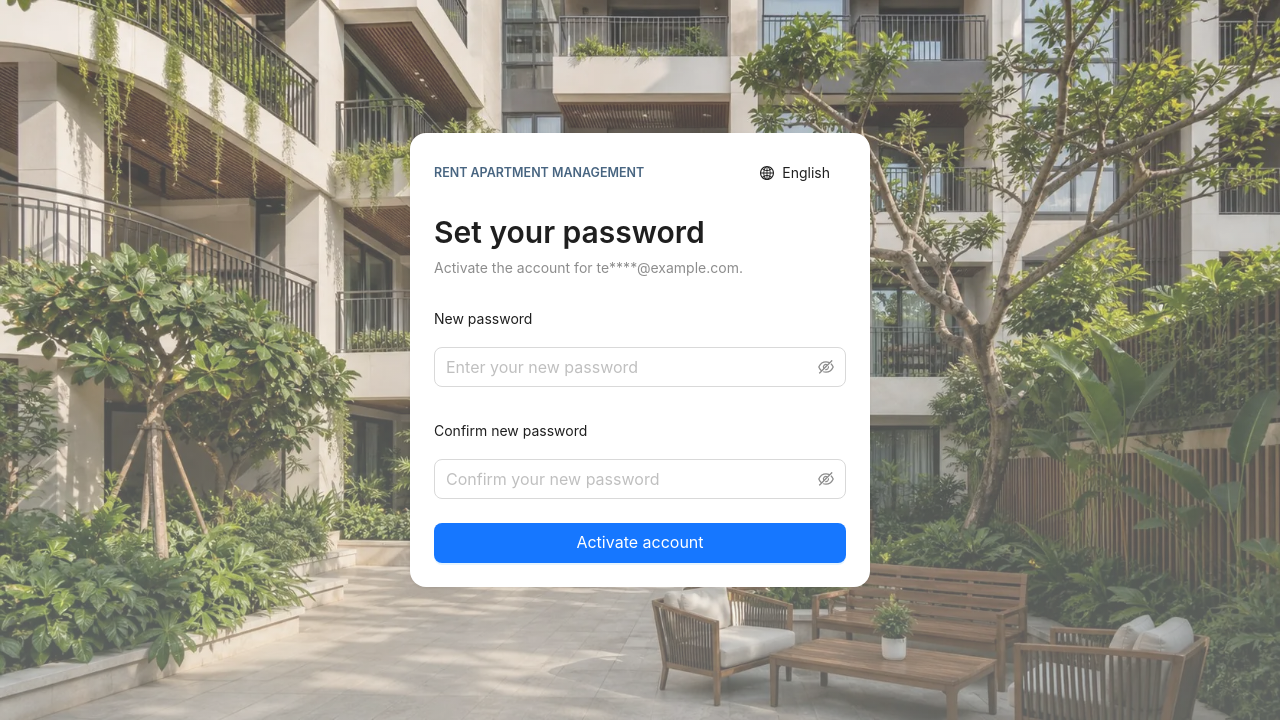
Test: ActivateAccountPage › validates the link and activates the account after matching passwords are entered
The width and height of the screenshot is (1280, 720).
Check: the heading "Set your password" is shown, box x1=434 y1=214 x2=705 y2=250
In the password field labelled "New password": (630, 367) x1=446 y1=355 x2=814 y2=379, type "secure-password-123"
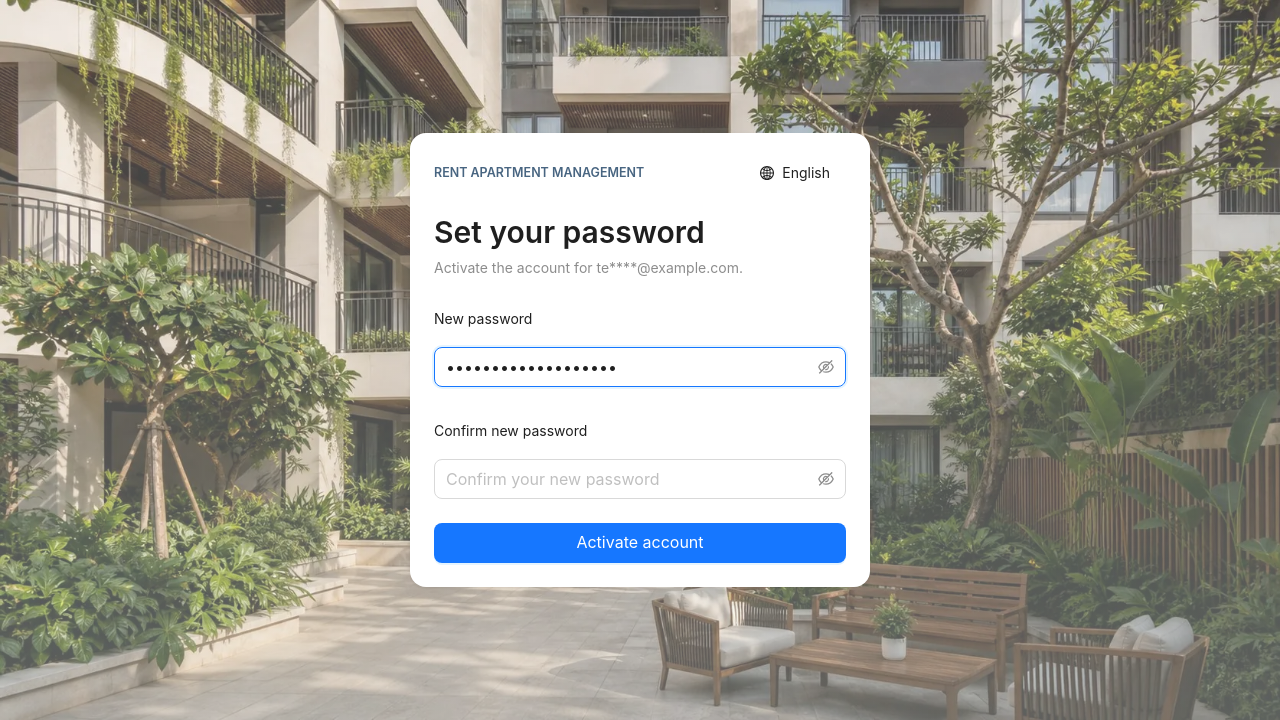
In the password field labelled "Confirm new password": (630, 479) x1=446 y1=467 x2=814 y2=491, type "secure-password-123"
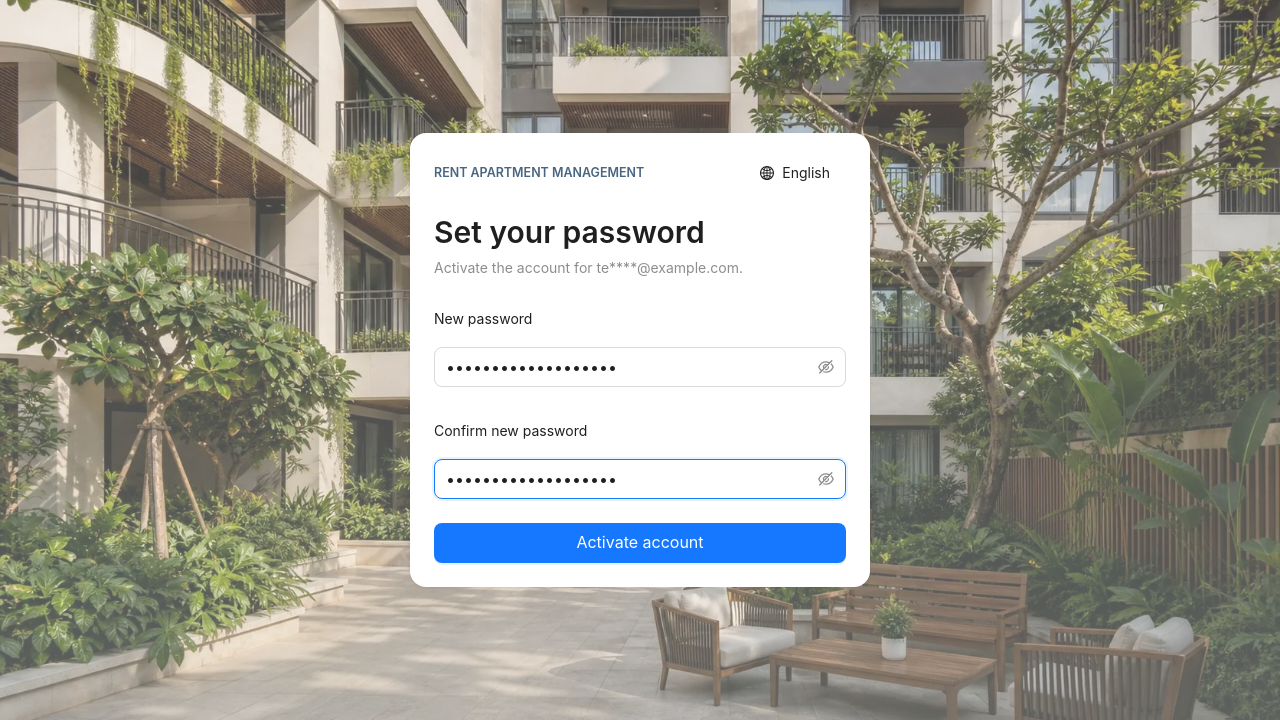
Click the button "Activate account": (640, 543) x1=434 y1=523 x2=846 y2=563
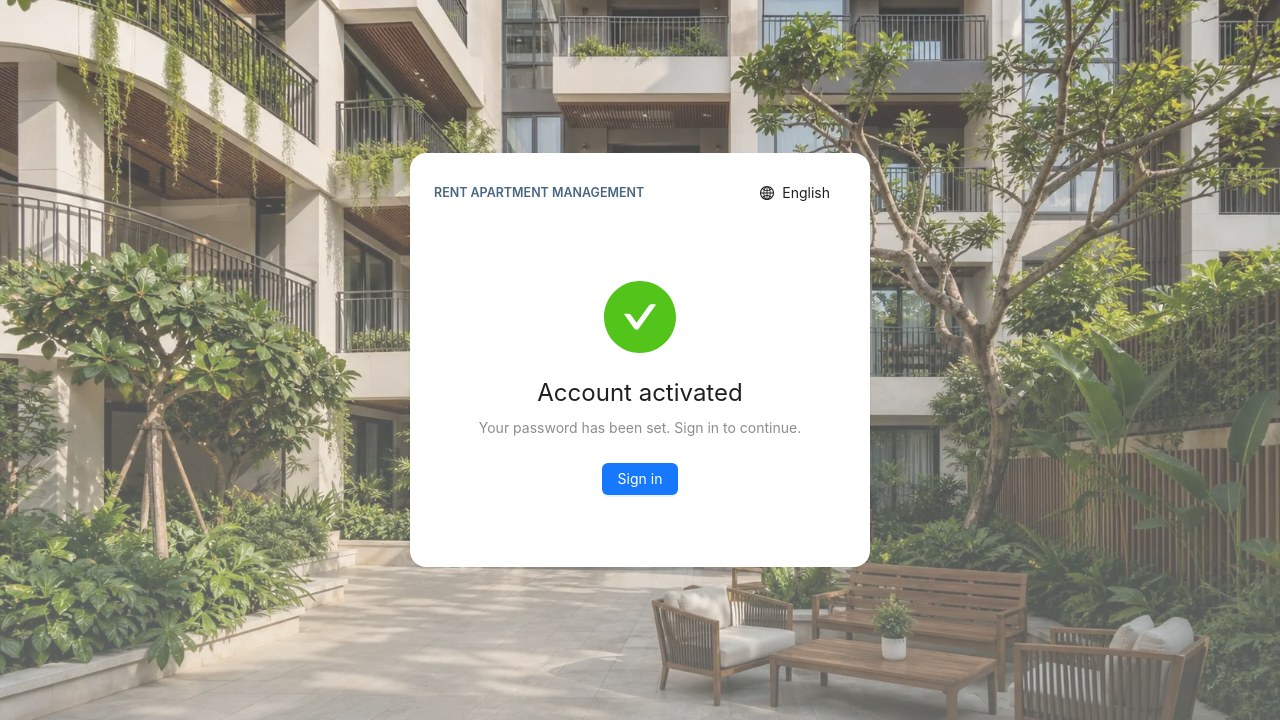
Check: the text "Account activated" is shown, box x1=537 y1=378 x2=743 y2=407
